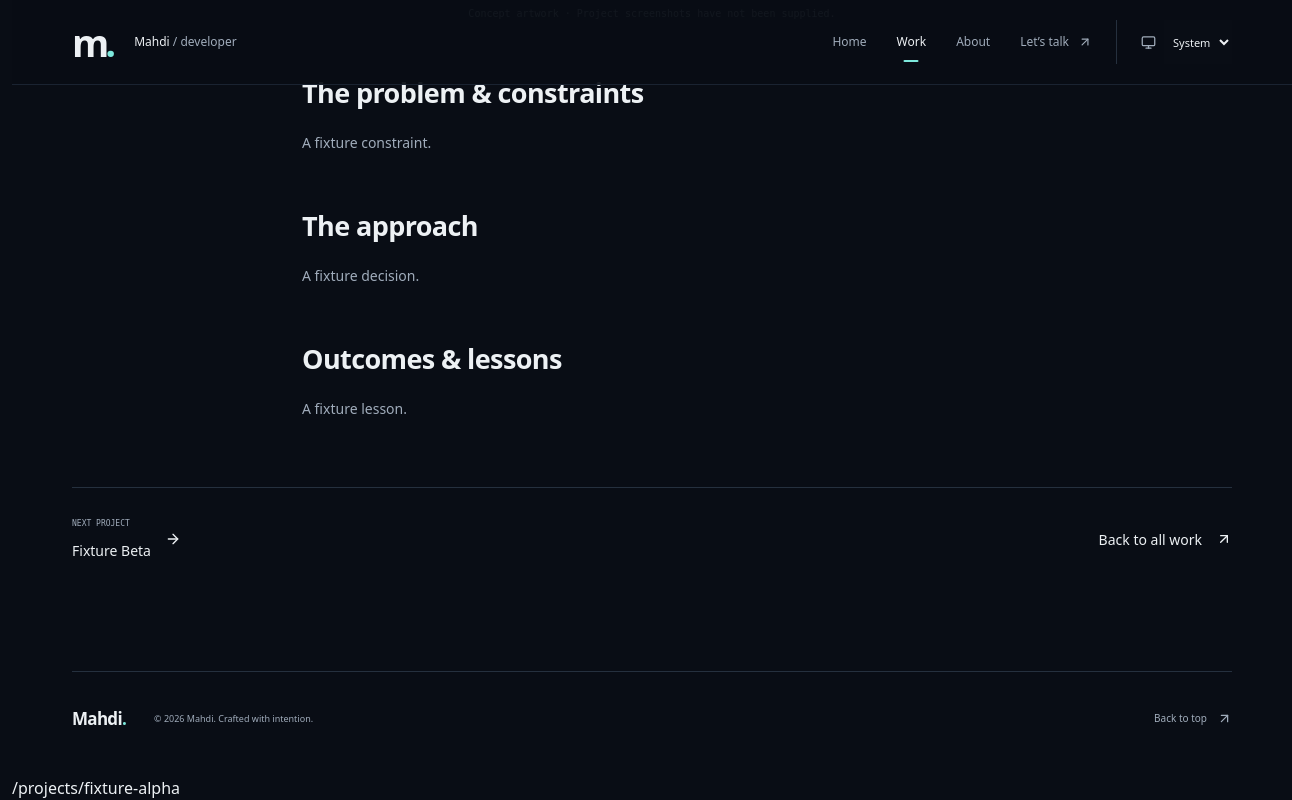
Test: published detail routes show supplied sections and next/previous navigation
(page scrolled)
Expected: the text "A fixture constraint." is shown, [302, 134, 431, 152]
Step 1. Click the link "NEXT PROJECT Fixture Beta" → (126, 540), box [72, 518, 181, 561]
(page scrolled)
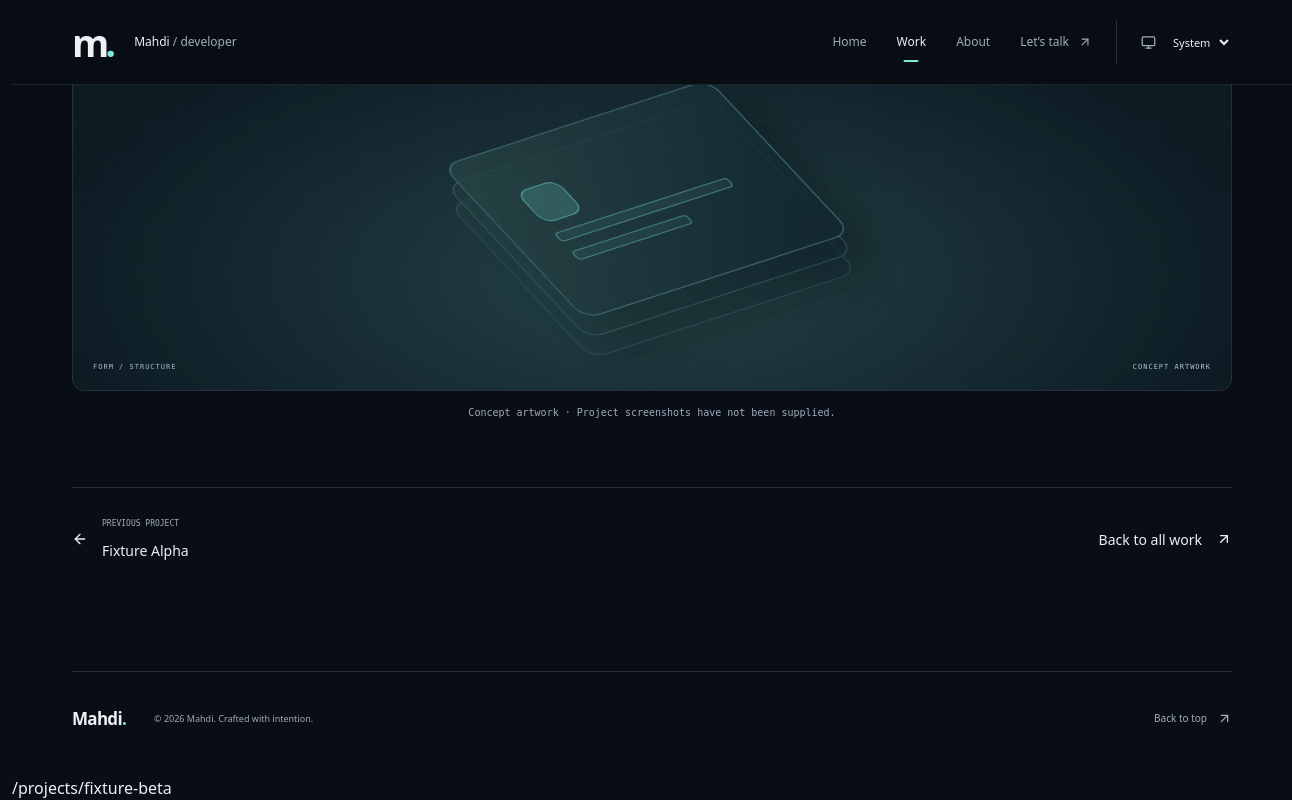
Step 2. Click the link "PREVIOUS PROJECT Fixture Alpha" → (130, 539), box [72, 518, 189, 561]
(page scrolled)
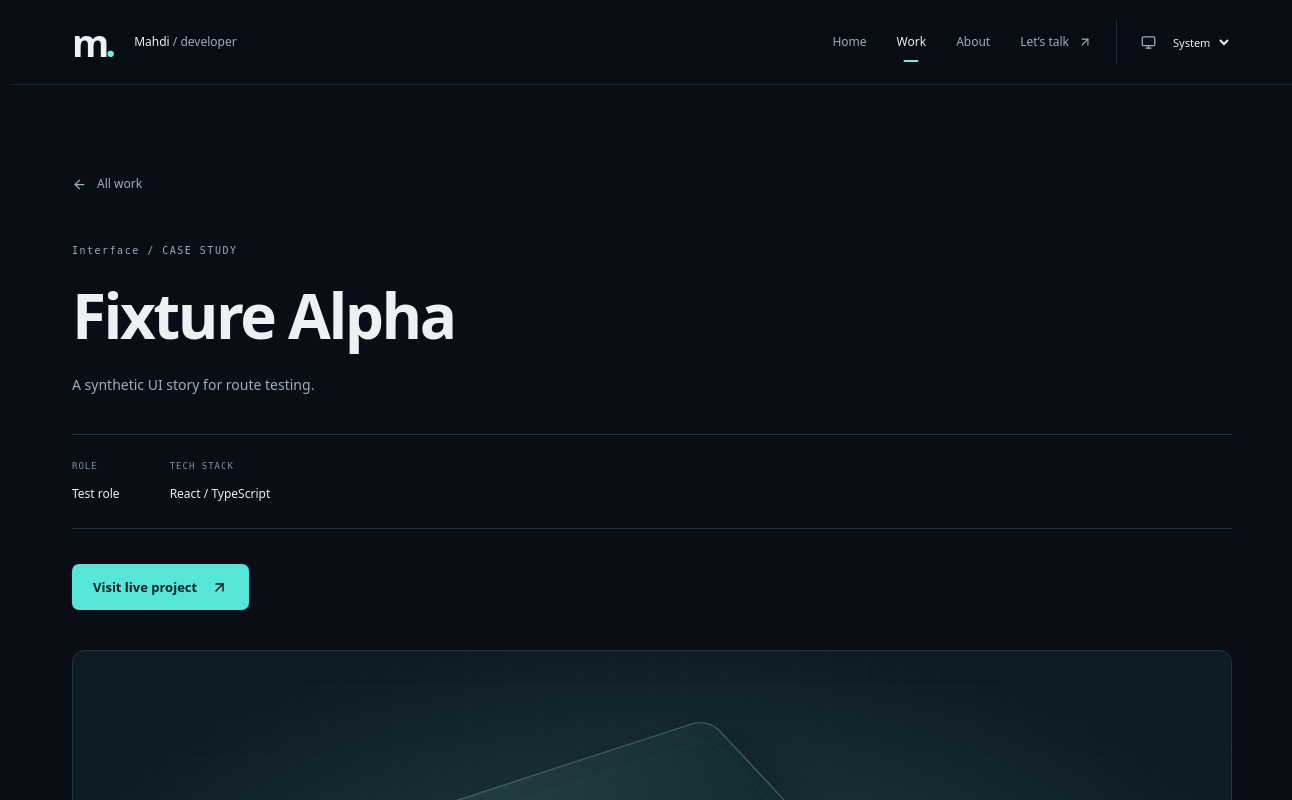
Now the heading reads "Fixture Alpha", box [72, 273, 455, 357]
